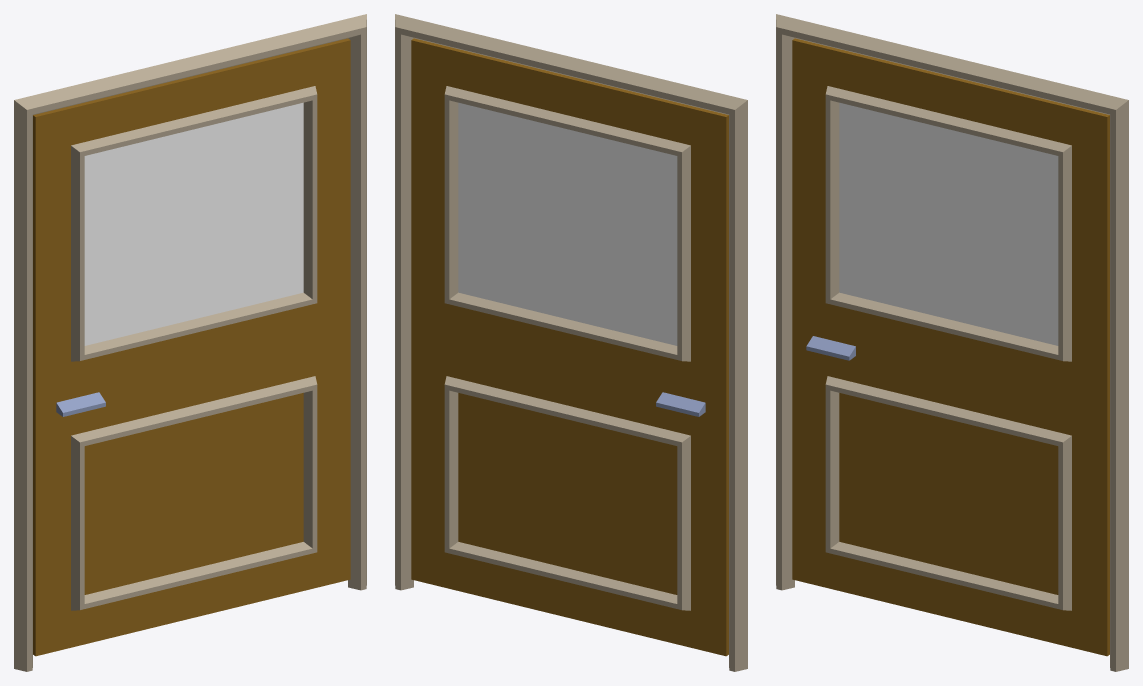
Rendered from door_outside.fbx.
The picture shows the model from 3 angles, left to right: view 1: azimuth 30°, elevation 25°; view 2: azimuth 150°, elevation 25°; view 3: azimuth 330°, elevation 25°; orthographic projection.
Parts seen in each view (by area): view 1: door_outside; view 2: door_outside; view 3: door_outside.
Part boxes in pixels (box(x1,y1,x2,y2)): door_outside: box(14, 14, 366, 671); door_outside: box(395, 14, 747, 671); door_outside: box(776, 14, 1128, 671).
Bounding box in the file's own units: 150 × 231 × 13.69.
